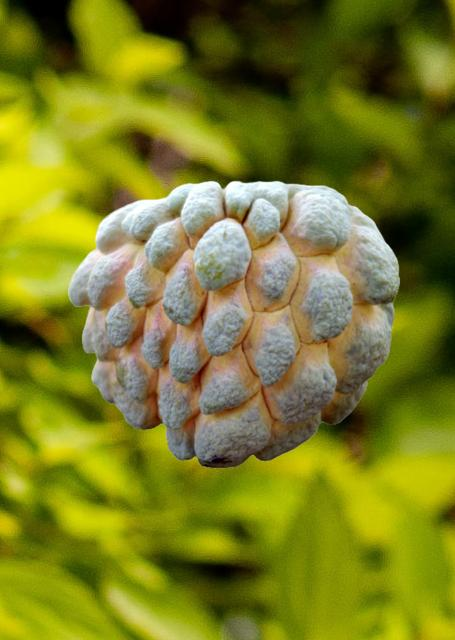atis: (68, 180, 398, 467)
